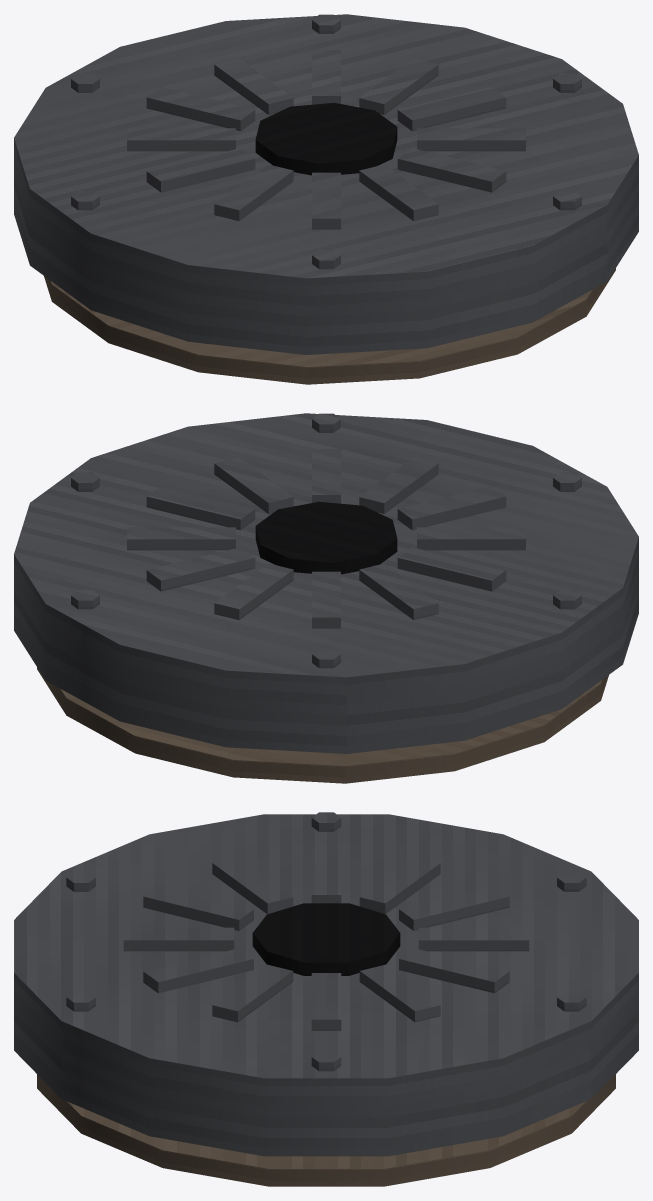
Rendered from embreagem_fabrica.glb.
The picture shows the model from 3 angles, top to bottom: view 1: azimuth 30°, elevation 25°; view 2: azimuth 150°, elevation 25°; view 3: azimuth 270°, elevation 25°; orthographic projection.
Parts seen in each view (by area): view 1: embreagem_fabrica; view 2: embreagem_fabrica; view 3: embreagem_fabrica.
Part boxes in pixels (<box>): embreagem_fabrica: <box>14,14,638,384</box>; embreagem_fabrica: <box>14,413,638,783</box>; embreagem_fabrica: <box>14,812,638,1186</box>.
Bounding box in the file's own units: 0.2542 × 0.075 × 0.2542.
Materials: 1 (1 with a texture image).
